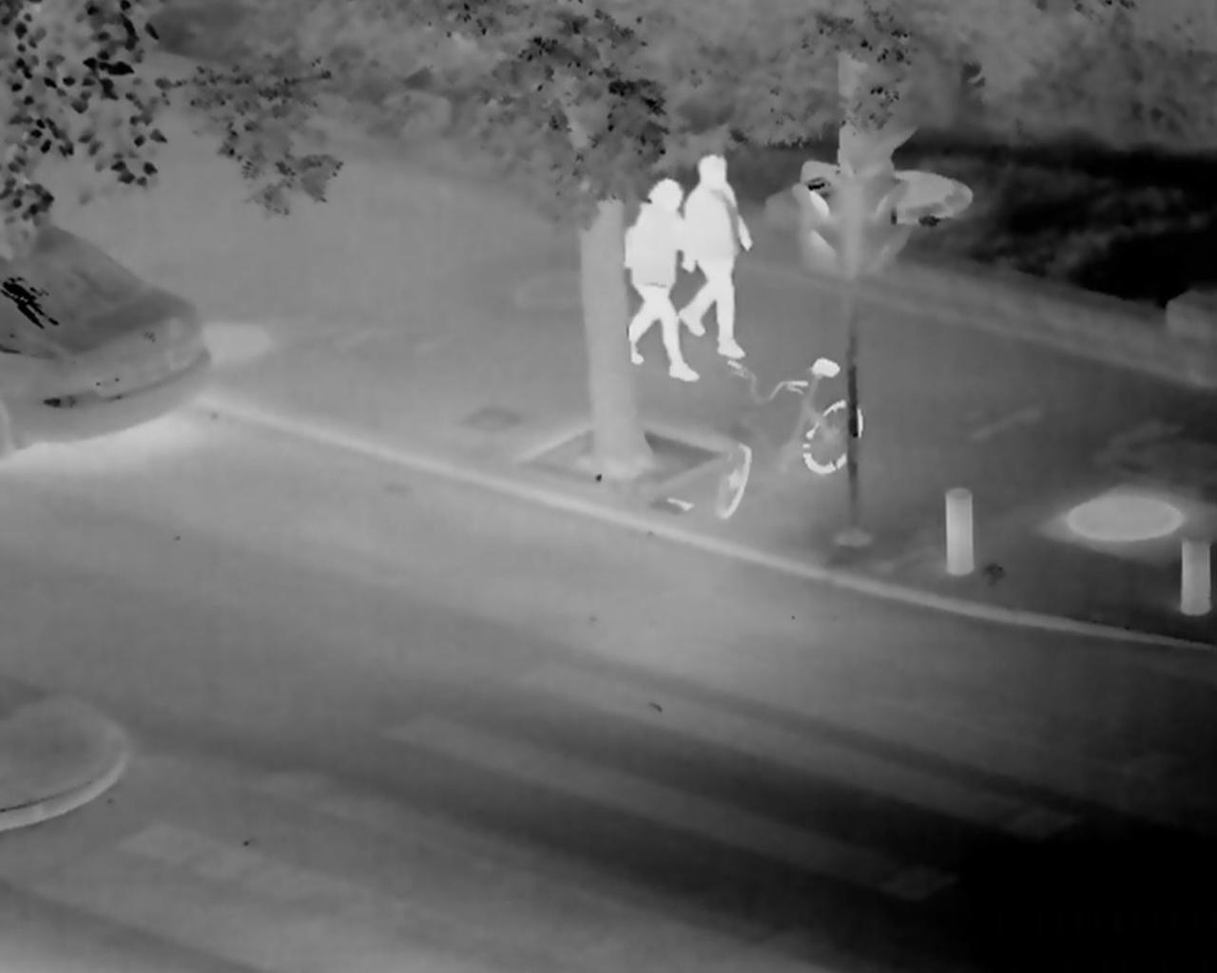person: (618, 180, 692, 383), (683, 158, 749, 359)
